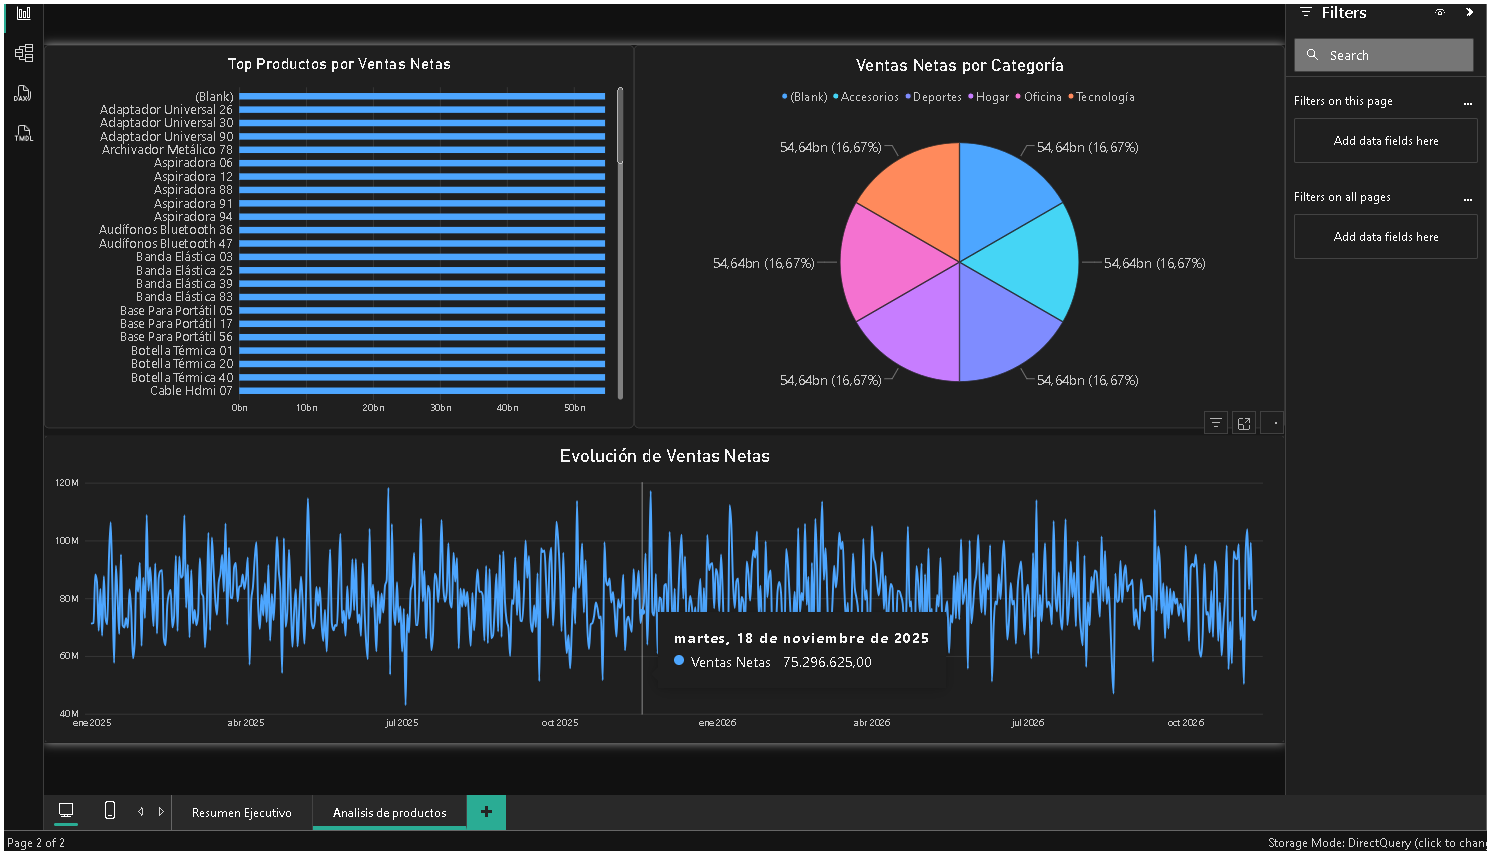

Layout of this report page (visuals, bound fields, positions):
{"tool":"powerbi","page":{"name":"Analisis de productos","canvas":[1920,1080],"ordinal":1},"visuals":[{"type":"barChart","title":"Top Productos por Ventas Netas","fields":{"Category":["dim_product.product_name"],"Y":["fact_sales.Ventas Netas"]},"box":[0,0,912.8,592.6],"z":0},{"type":"pieChart","title":"Ventas Netas por Categoría","fields":{"Category":["dim_product.category"],"Y":["fact_sales.Ventas Netas"]},"box":[912.8,0,1007.2,592.6],"z":1},{"type":"lineChart","title":"Evolución de Ventas Netas","fields":{"Category":["dim_date.full_date"],"Y":["fact_sales.Ventas Netas"]},"box":[0,603.4,1920,476.5],"z":2}]}

Visuals, with their boxes on the page's 1920x1080 design canvas (x1, y1, x2, y2). These are canvas units, not pixel positions in the 1491x855 screenshot, which may show the page scaled, cropped or inside an application window:
"Top Productos por Ventas Netas" barChart: (x1=0, y1=0, x2=913, y2=593)
"Ventas Netas por Categoría" pieChart: (x1=913, y1=0, x2=1920, y2=593)
"Evolución de Ventas Netas" lineChart: (x1=0, y1=603, x2=1920, y2=1080)
